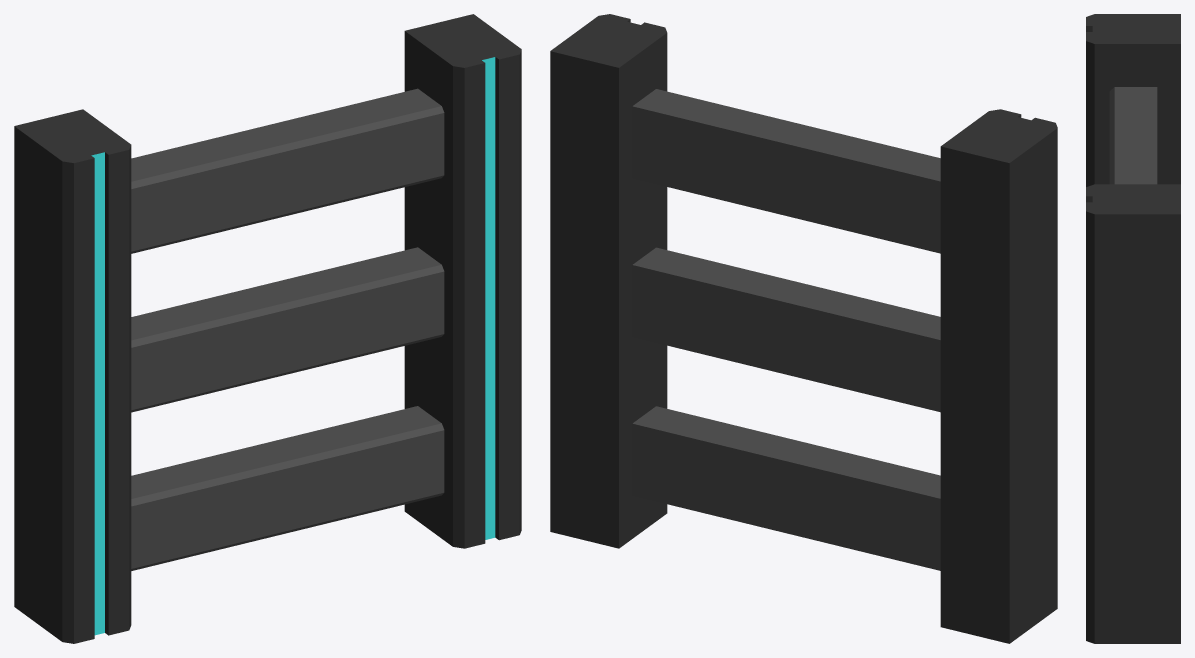
File: HJD_SFB_Ladder_01.fbx
3 views of the same model, side by side, from view 1: azimuth 30°, elevation 25°; view 2: azimuth 150°, elevation 25°; view 3: azimuth 270°, elevation 25° (orthographic). The views are drawn at different scales.
Visible parts, largest first — view 1: HJD_SFB_Asset; view 2: HJD_SFB_Asset; view 3: HJD_SFB_Asset.
Part boxes in pixels (box(x1,y1,x2,y2)): HJD_SFB_Asset: box(14, 14, 521, 643); HJD_SFB_Asset: box(550, 14, 1057, 643); HJD_SFB_Asset: box(1086, 14, 1180, 643).
Bounding box in the file's own units: 100 × 100 × 20.
